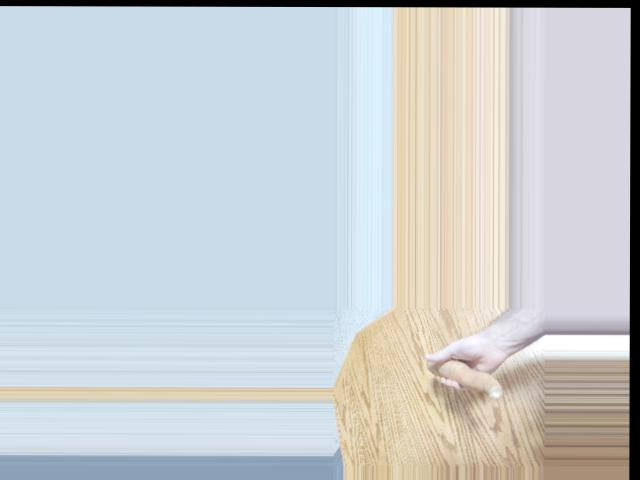sweet_potato: (428, 356, 505, 397)
